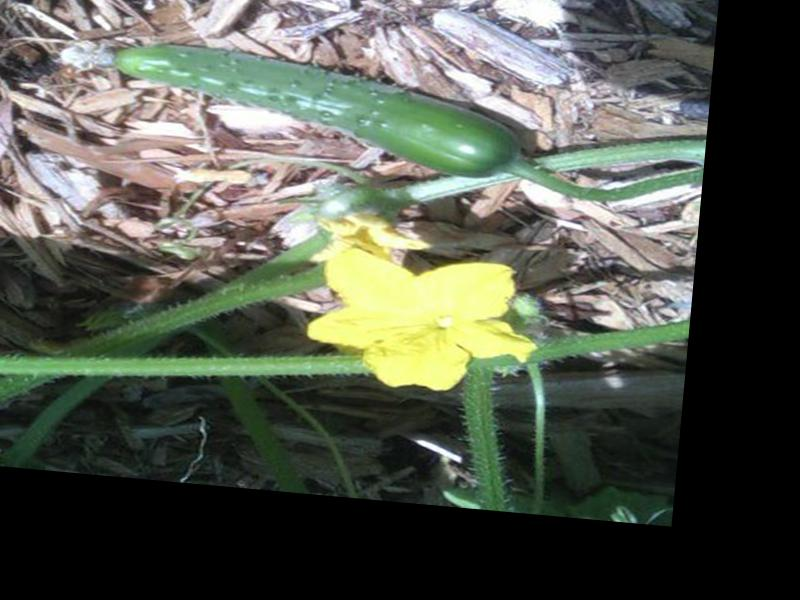Cucumber: (61, 31, 532, 182)
